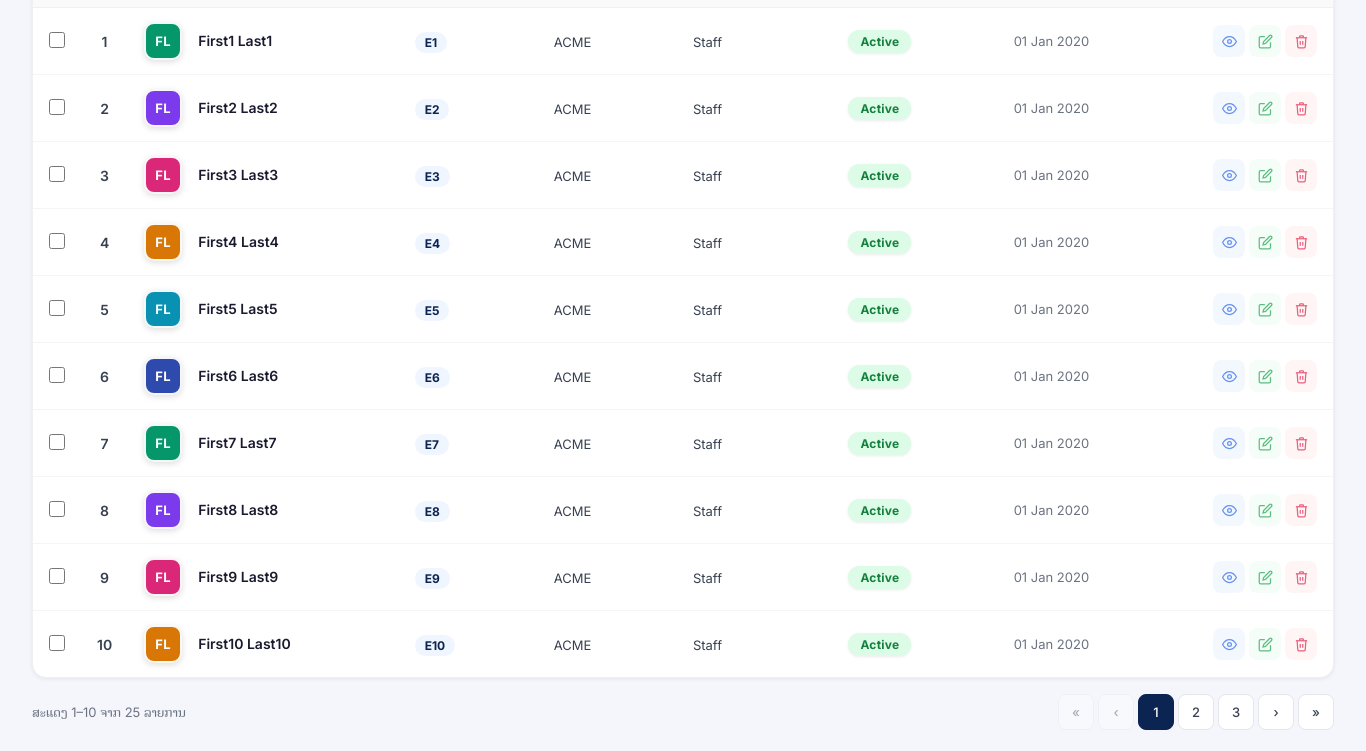
Test case: Employees — pagination › clicking page 2 fetches page 2 and shows its rows
(page scrolled)
Click the button with class "emp-pg-btn" showing "2".
click(1196, 712)  # box [1178,694,1214,730]
(page scrolled)
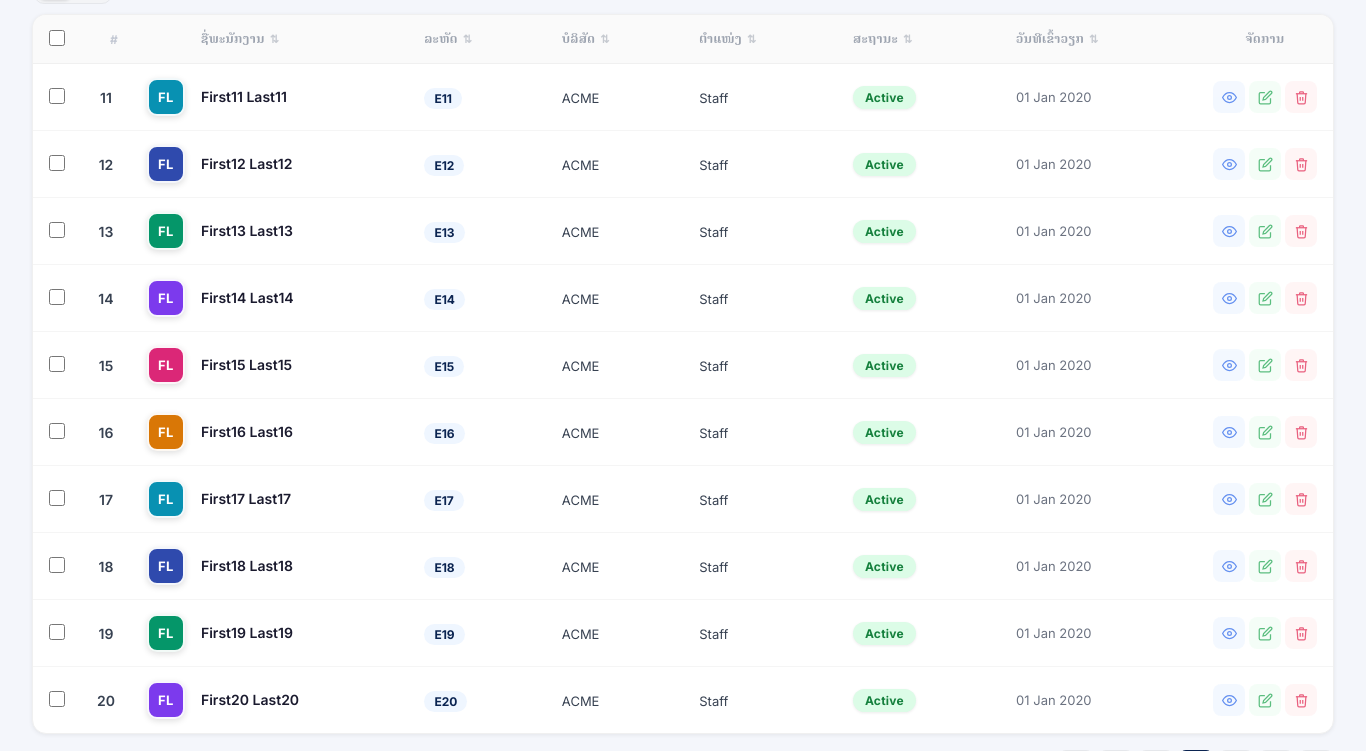
Expected: the table with class "emp-table" shows "First11", [201,88,243,105]
Expected: the element with class "emp-table" no longer shows "First1"
